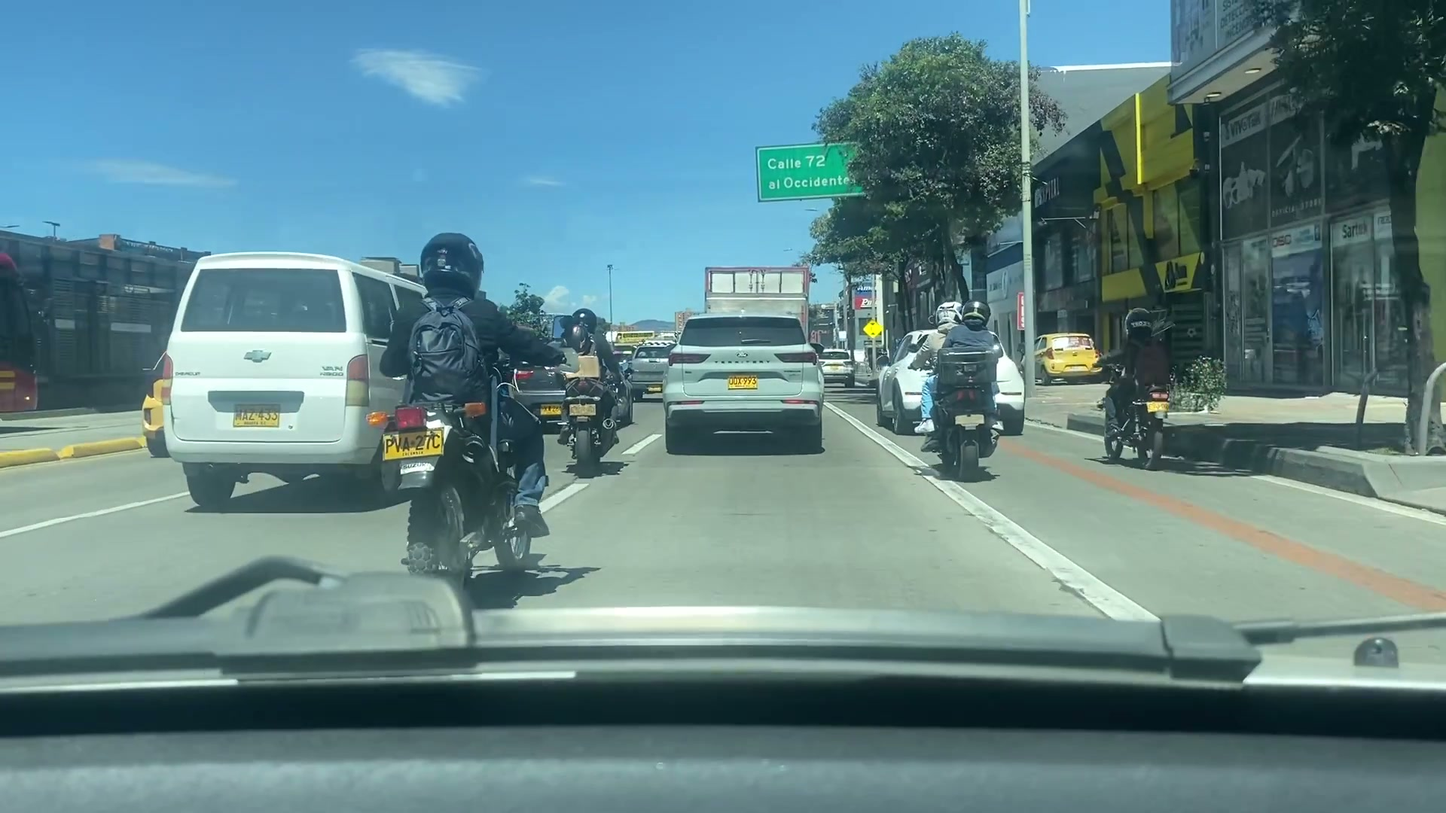bus: (162, 243, 431, 501)
car: (665, 315, 825, 449), (873, 329, 1024, 428), (1021, 328, 1101, 382), (623, 337, 683, 399), (815, 345, 858, 387)
motorcycle: (354, 392, 546, 596), (926, 378, 1006, 487), (1090, 383, 1183, 460), (560, 376, 621, 480)
person: (396, 229, 550, 568), (918, 289, 1009, 460), (1088, 291, 1177, 438), (558, 305, 628, 457)
truck: (703, 265, 809, 354)
